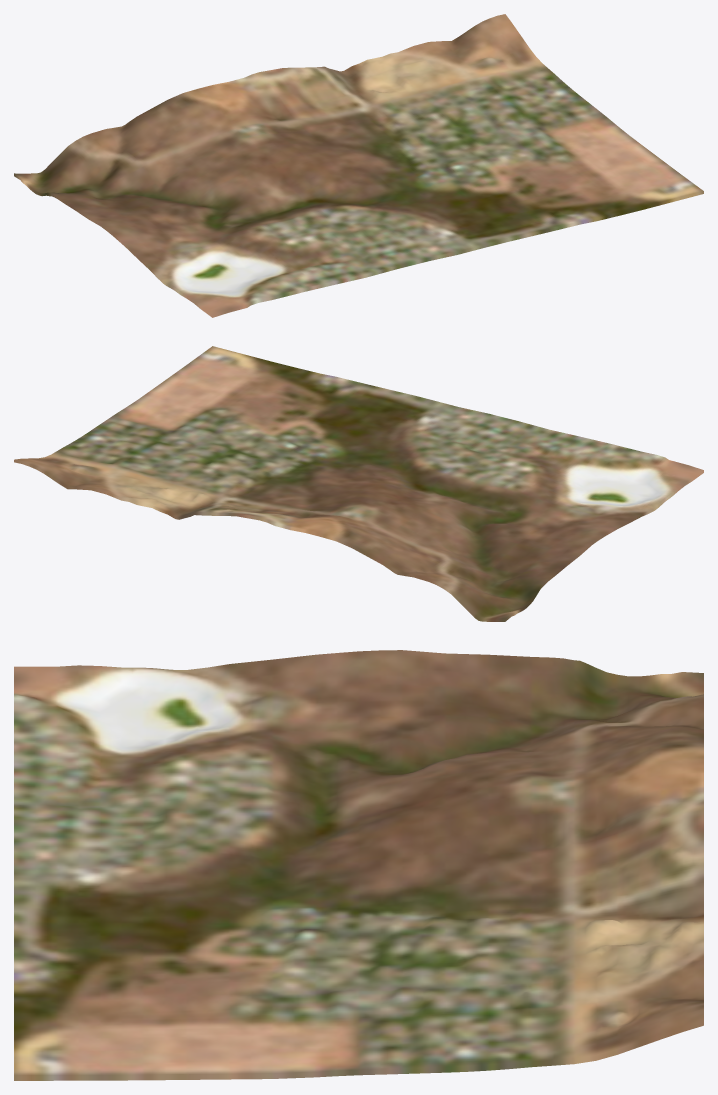
Rendered from terrain_r2_c3_lod1.glb.
3 views of the same model, one above another, from view 1: azimuth 30°, elevation 25°; view 2: azimuth 150°, elevation 25°; view 3: azimuth 270°, elevation 25° (orthographic). The views are drawn at different scales.
Visible parts, largest first — view 1: terrain_r2_c3_lod1; view 2: terrain_r2_c3_lod1; view 3: terrain_r2_c3_lod1.
Part boxes in pixels (<box>): terrain_r2_c3_lod1: <box>14,14,703,317</box>; terrain_r2_c3_lod1: <box>14,346,703,621</box>; terrain_r2_c3_lod1: <box>14,650,703,1080</box>.
Bounding box in the file's own units: 1125 × 109 × 787.
Materials: 1 (1 with a texture image).
